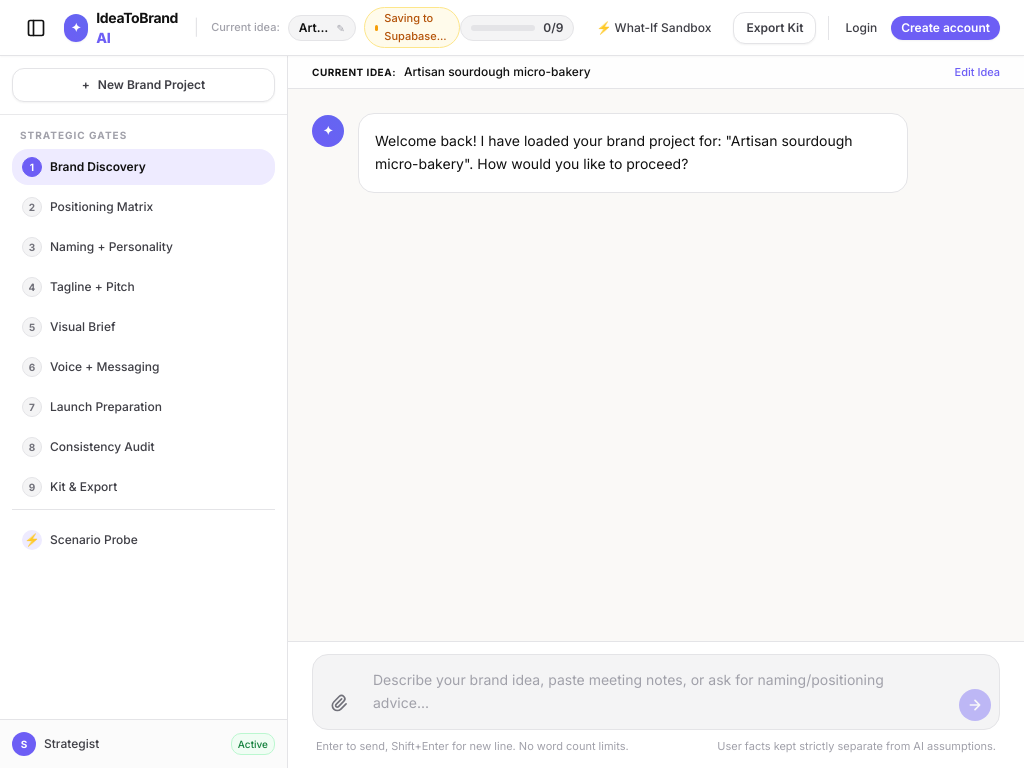
Test: Frontend Integration Fix — Chat UX & Idea Submission › 14. Renders human-readable stage content without raw JSON strings
The image size is (1024, 768).
Replace the text in the text box named "chat input message" with "Generate our brand discovery" at (658, 692), box 365,663 -> 951,721
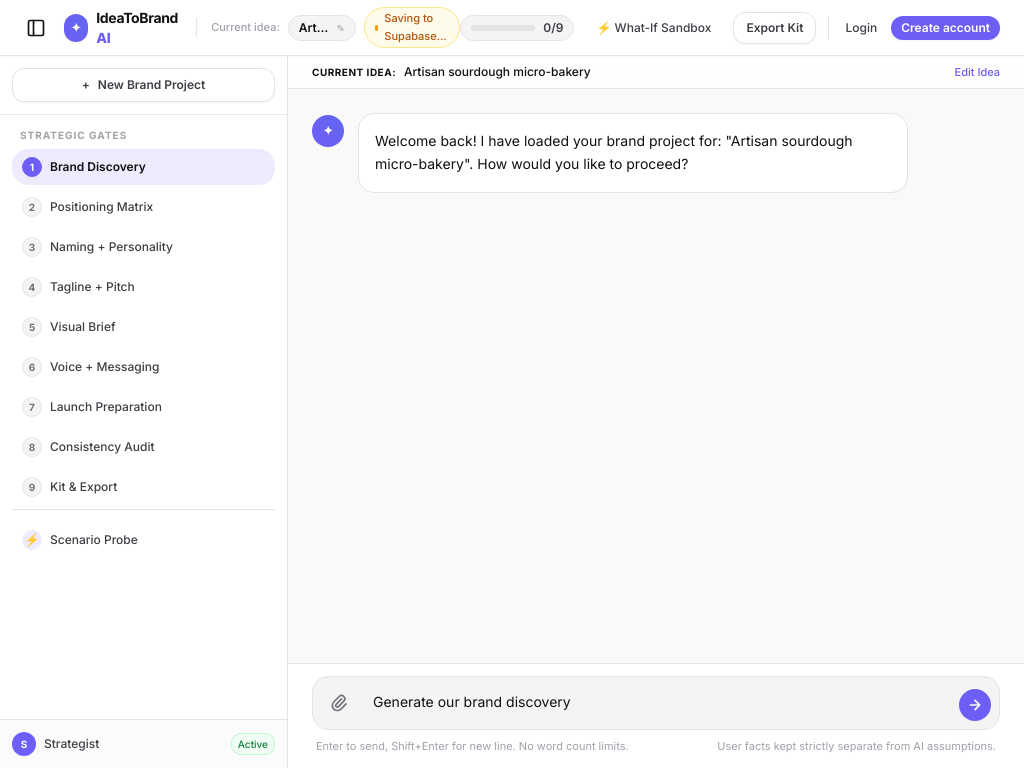
Click the button named "send message" at (975, 705), box 959,689 -> 991,721
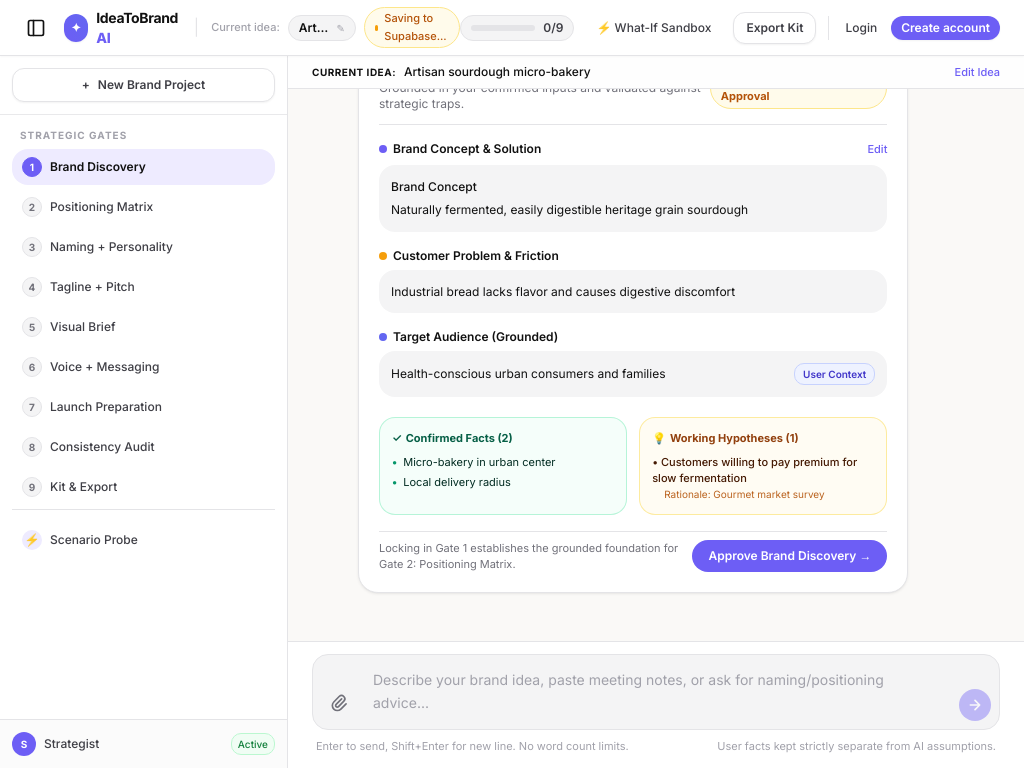
Expected: the text "Industrial bread lacks flavor" is shown, 391,284 -> 735,298
Expected: the text "Health-conscious urban consumers and families" is shown, 391,364 -> 666,384
Expected: the text "Naturally fermented" is shown, 391,202 -> 748,217
